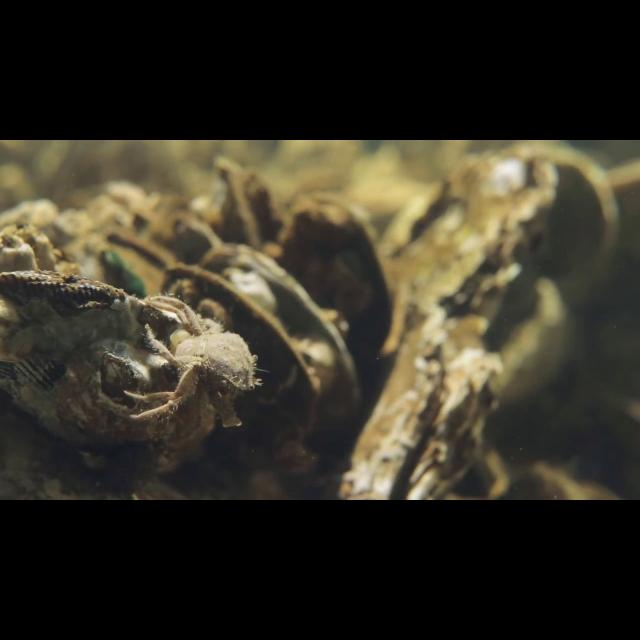Oyster-Closed: (338, 308, 502, 500), (274, 198, 392, 388)
Oyster-Open: (160, 243, 364, 432)
